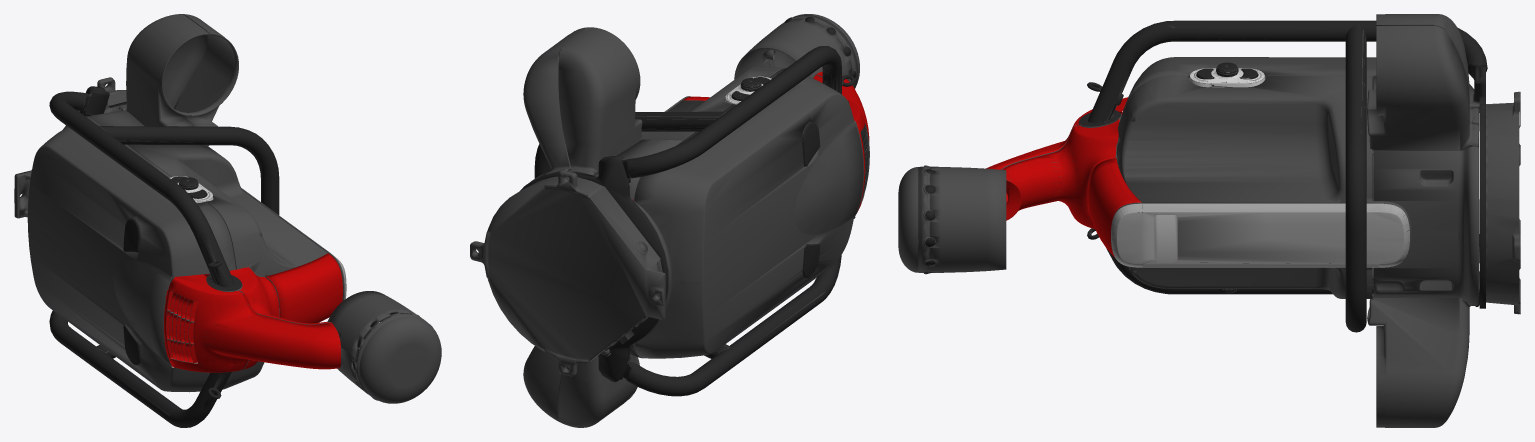
3 views of the same model, side by side, from view 1: azimuth 30°, elevation 25°; view 2: azimuth 150°, elevation 25°; view 3: azimuth 270°, elevation 25° (orthographic). The views are drawn at different scales.
Visible parts, largest first — view 1: base_link; view 2: base_link; view 3: base_link.
Part boxes in pixels (left/top/right/bottom): base_link: left=14, top=14, right=441, bottom=427; base_link: left=470, top=14, right=869, bottom=427; base_link: left=898, top=14, right=1520, bottom=427.
Size of the model in its own units: 0.419 by 0.672 by 0.9368.
